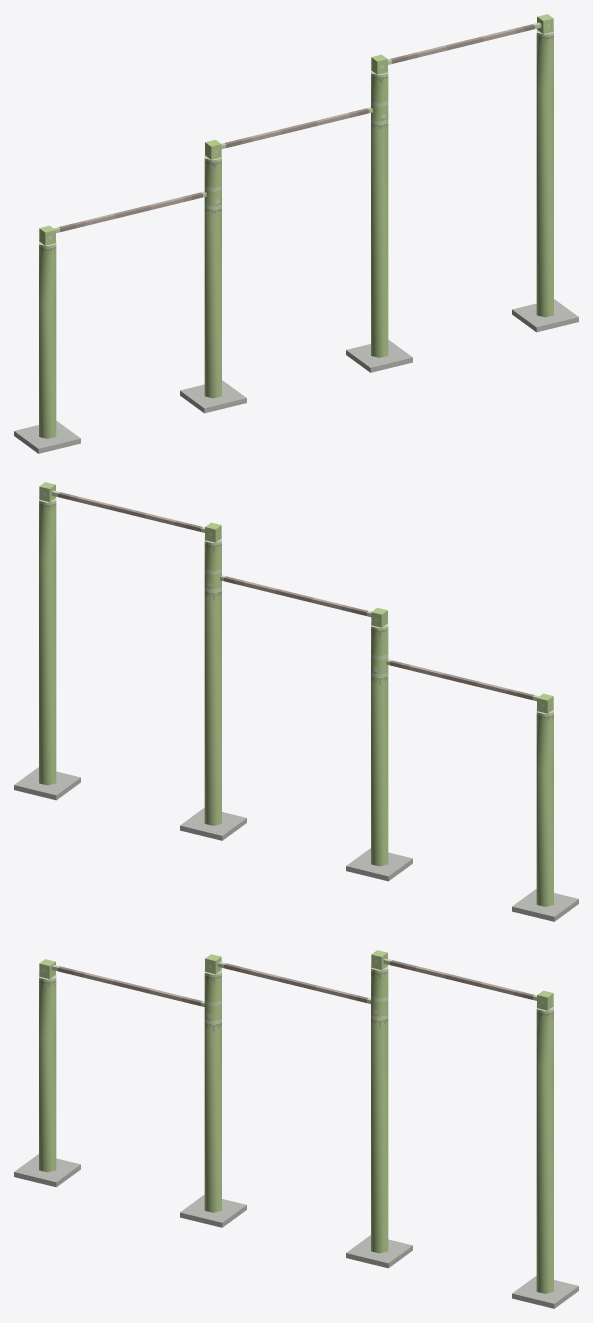
The model's file is 02a4_Horizontal_Bar.glb.
The picture shows the model from 3 angles, top to bottom: view 1: azimuth 30°, elevation 25°; view 2: azimuth 150°, elevation 25°; view 3: azimuth 330°, elevation 25°; orthographic projection.
Parts seen in each view (by area): view 1: part_0; view 2: part_0; view 3: part_0.
Boxes of the visible parts, x1,y1,x2,y2 form: part_0: (14,14,578,453); part_0: (14,482,578,921); part_0: (14,950,578,1308).
Size of the model in its own units: 5.82 by 3.09 by 0.4574.
1 material, 1 textured.
